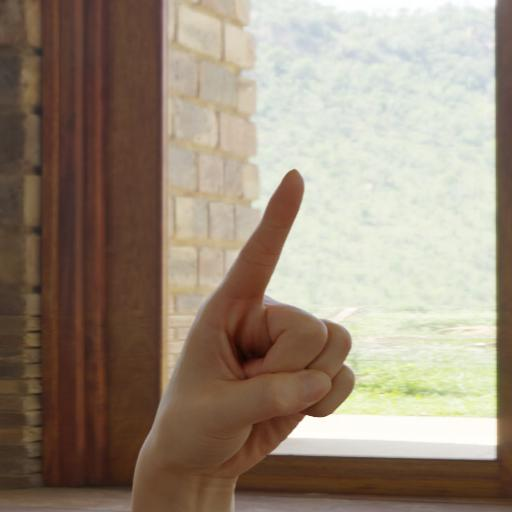Z: (117, 157, 381, 512)
